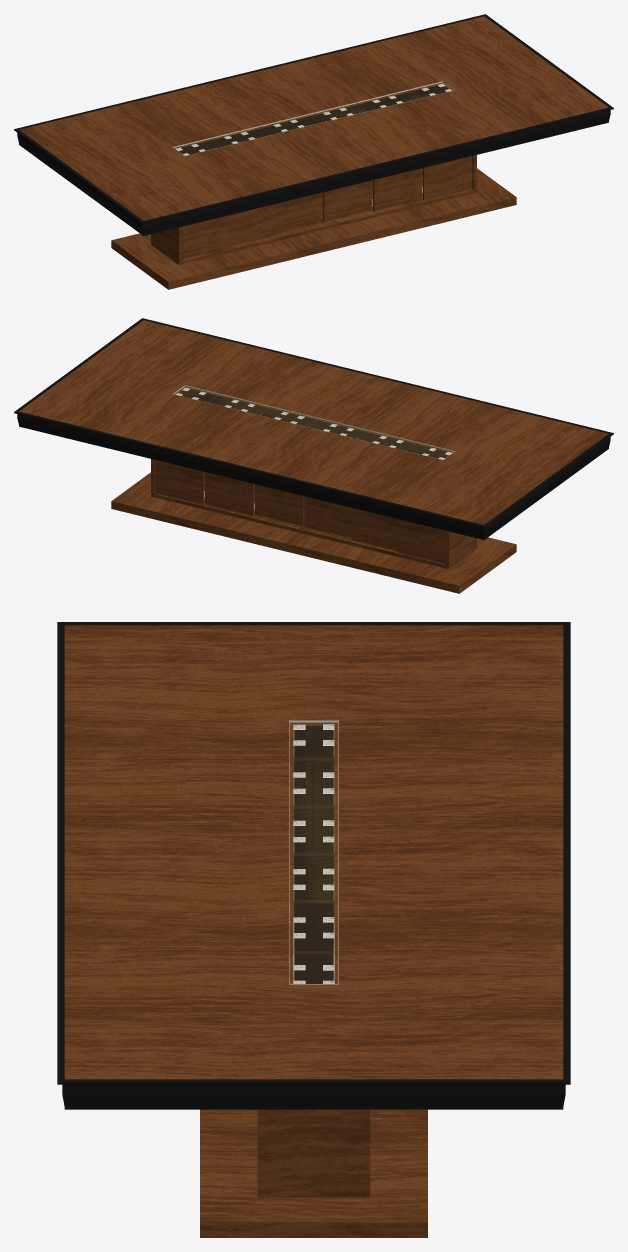
File: conference_table.glb
The picture shows the model from 3 angles, top to bottom: view 1: azimuth 30°, elevation 25°; view 2: azimuth 150°, elevation 25°; view 3: azimuth 270°, elevation 25°; orthographic projection. The views are drawn at different scales.
Visible parts, largest first — view 1: Object_3, Object_6, Object_9, Object_2, Object_5; view 2: Object_3, Object_6, Object_9, Object_2, Object_5; view 3: Object_3, Object_6, Object_9, Object_5.
Part boxes in pixels (x1,y1,x2,y2): Object_3: (19,16,608,289); Object_6: (14,14,613,235); Object_9: (173,81,453,155); Object_2: (173,81,454,155); Object_5: (176,83,451,155); Object_3: (19,320,608,593); Object_6: (14,318,613,539); Object_9: (174,386,454,459); Object_2: (173,385,454,459); Object_5: (176,387,451,459); Object_3: (64,625,563,1237); Object_6: (57,622,570,1109); Object_9: (289,720,338,983); Object_5: (293,724,334,983).
Size of the model in its own units: 4.62 by 1.01 by 2.18.
10 materials, 1 textured.
